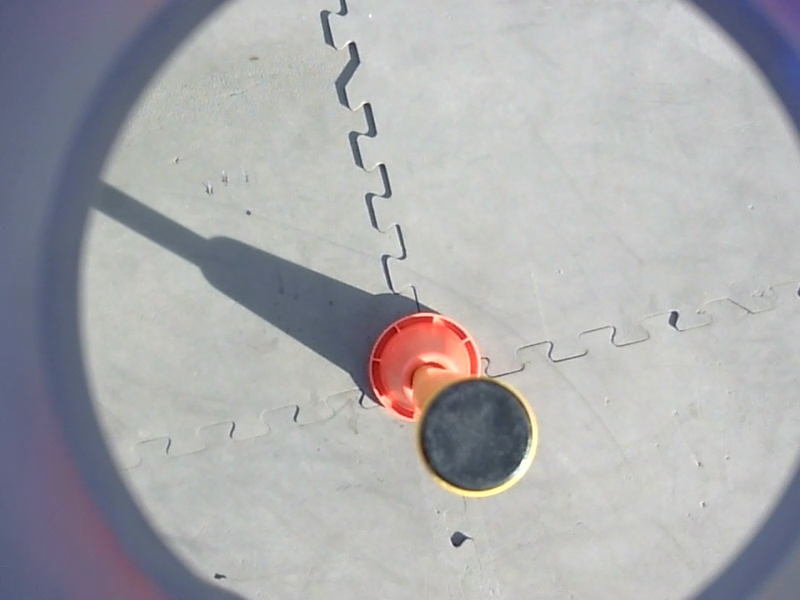tip: (411, 371, 543, 504)
